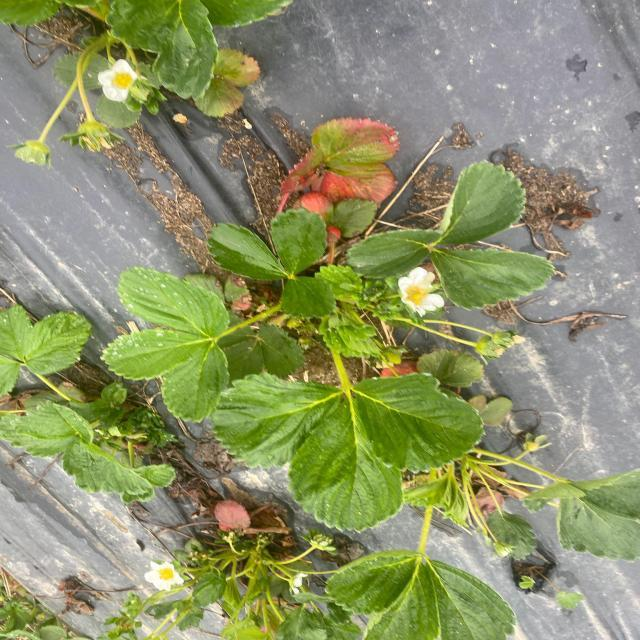flower: (384, 262, 454, 320), (95, 56, 152, 101), (140, 554, 194, 601)
